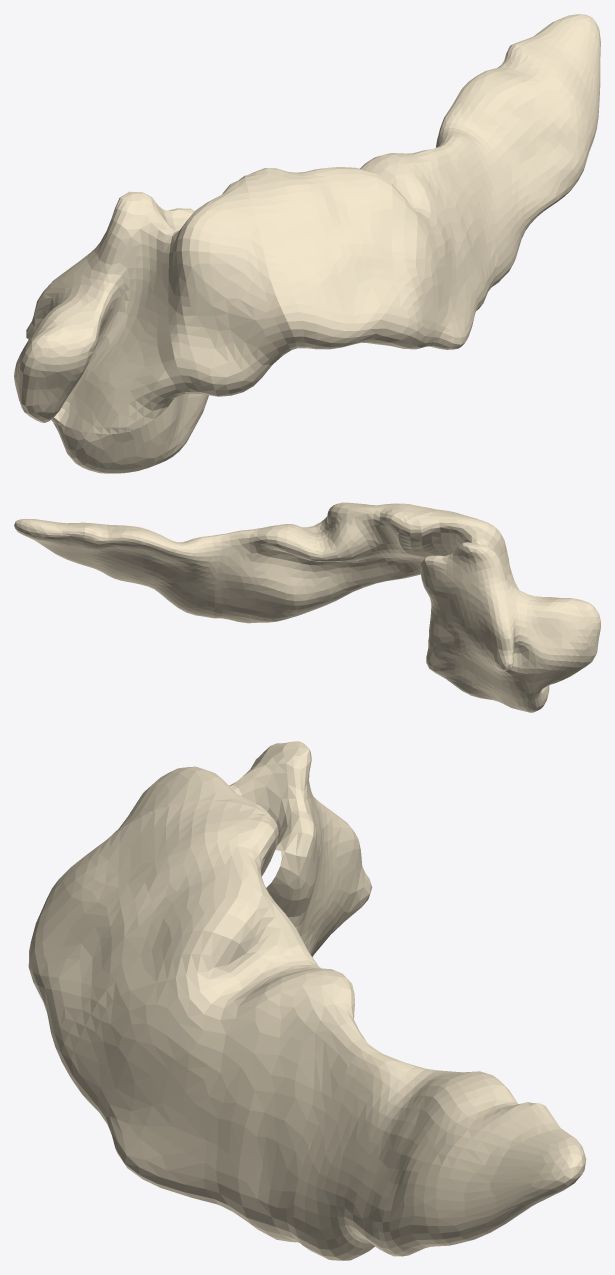
The model's file is VH_F_Pancreas_0.6.glb.
3 views of the same model, one above another, from view 1: azimuth 30°, elevation 25°; view 2: azimuth 150°, elevation 25°; view 3: azimuth 270°, elevation 25° (orthographic). The views are drawn at different scales.
Parts seen in each view (by area): view 1: VH_F_body_of_pancreas, VH_F_head_of_pancreas, VH_F_tail_of_pancreas, VH_F_neck_of_pancreas, VH_F_uncinate_process; view 2: VH_F_body_of_pancreas, VH_F_head_of_pancreas, VH_F_tail_of_pancreas, VH_F_neck_of_pancreas, VH_F_uncinate_process; view 3: VH_F_body_of_pancreas, VH_F_tail_of_pancreas, VH_F_head_of_pancreas, VH_F_neck_of_pancreas.
Part boxes in pixels (x1,y1,x2,y2): VH_F_body_of_pancreas: (245,145,500,349); VH_F_head_of_pancreas: (14,191,194,434); VH_F_tail_of_pancreas: (436,14,600,282); VH_F_neck_of_pancreas: (168,175,296,396); VH_F_uncinate_process: (53,393,208,473); VH_F_body_of_pancreas: (213,502,448,623); VH_F_head_of_pancreas: (420,542,600,694); VH_F_tail_of_pancreas: (14,518,221,618); VH_F_neck_of_pancreas: (398,511,518,589); VH_F_uncinate_process: (426,642,549,712); VH_F_body_of_pancreas: (28,800,371,1244); VH_F_tail_of_pancreas: (293,1046,586,1260); VH_F_head_of_pancreas: (229,741,372,956); VH_F_neck_of_pancreas: (108,766,270,838).
Size of the model in its own units: 0.1721 by 0.0579 by 0.0845.
